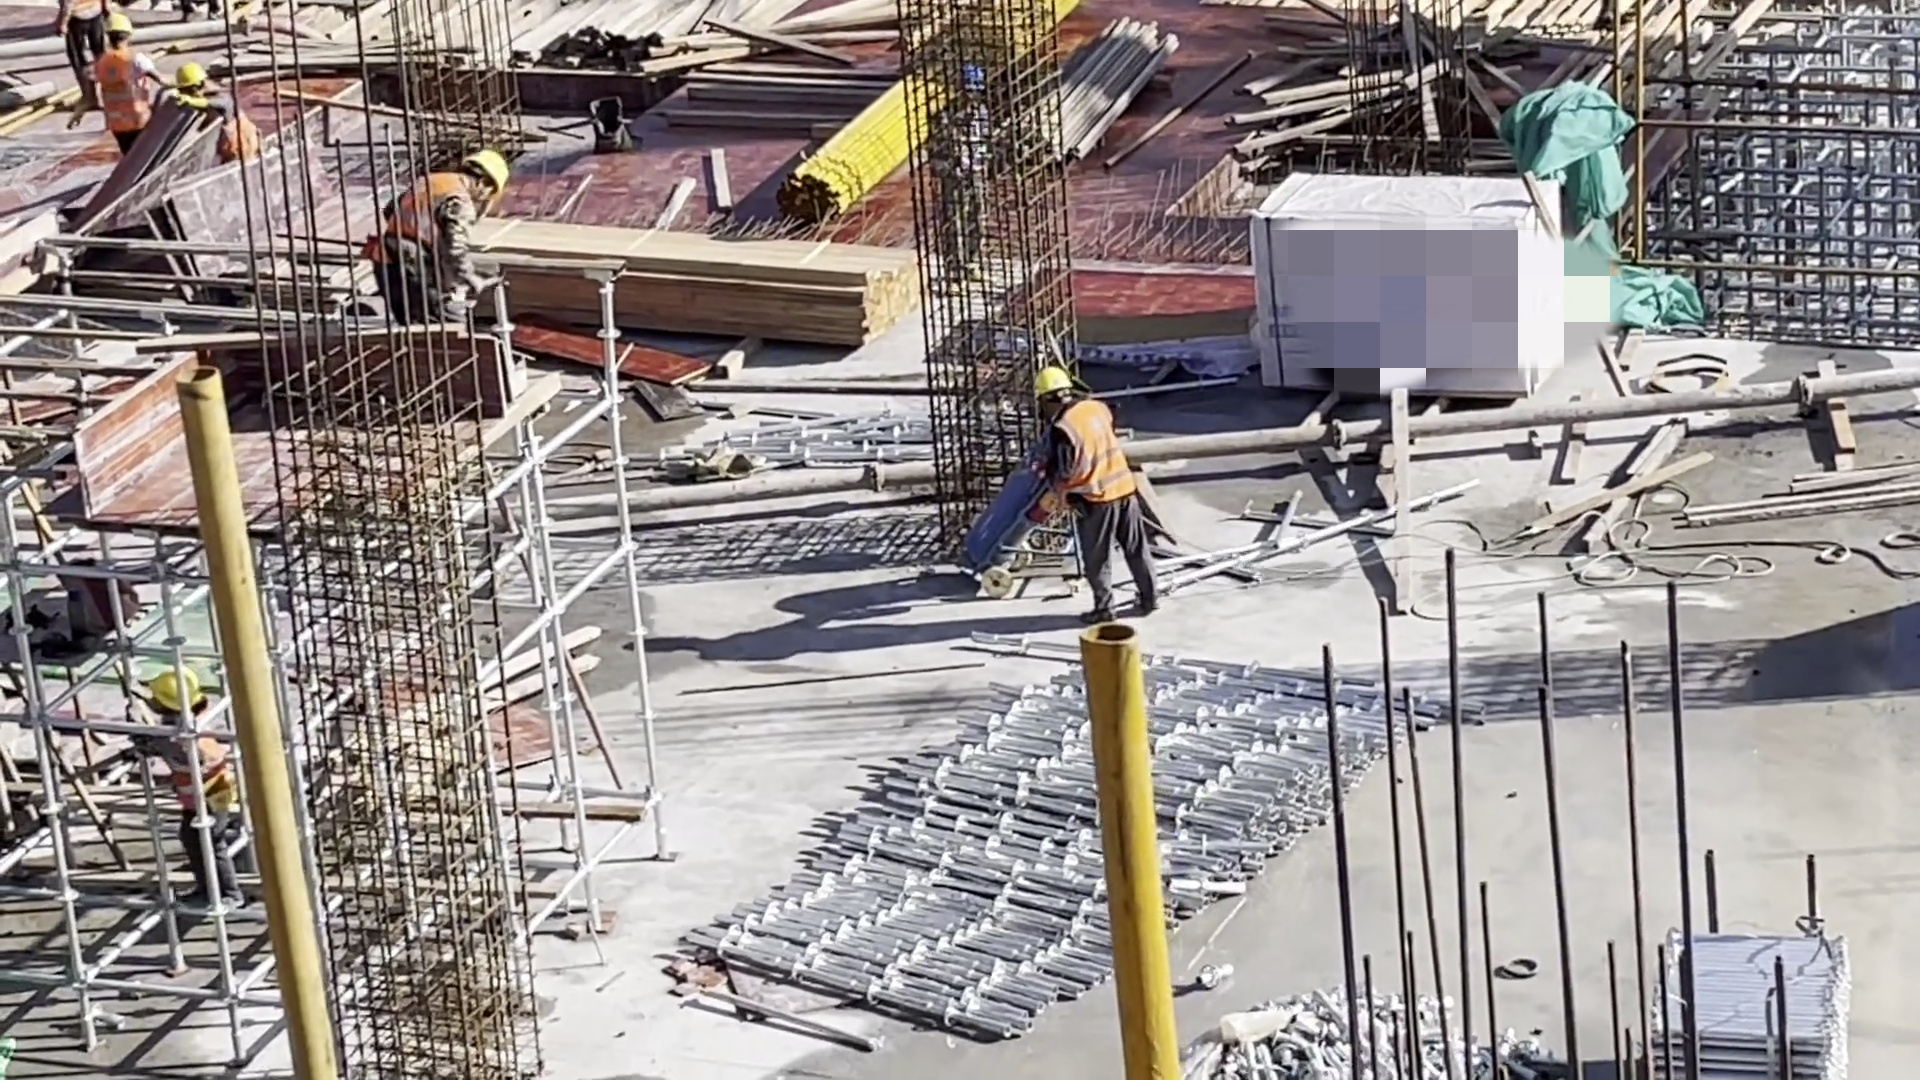helmet: (150, 669, 207, 717), (463, 154, 511, 190), (1029, 365, 1074, 399), (177, 64, 206, 91), (100, 17, 131, 42)
person: (1026, 369, 1163, 619), (126, 669, 258, 916), (373, 149, 508, 330), (92, 15, 163, 161), (175, 63, 260, 158), (54, 1, 103, 110)
vest: (385, 173, 473, 275), (1055, 398, 1139, 499), (165, 732, 240, 816), (89, 53, 152, 135), (203, 90, 257, 156)
